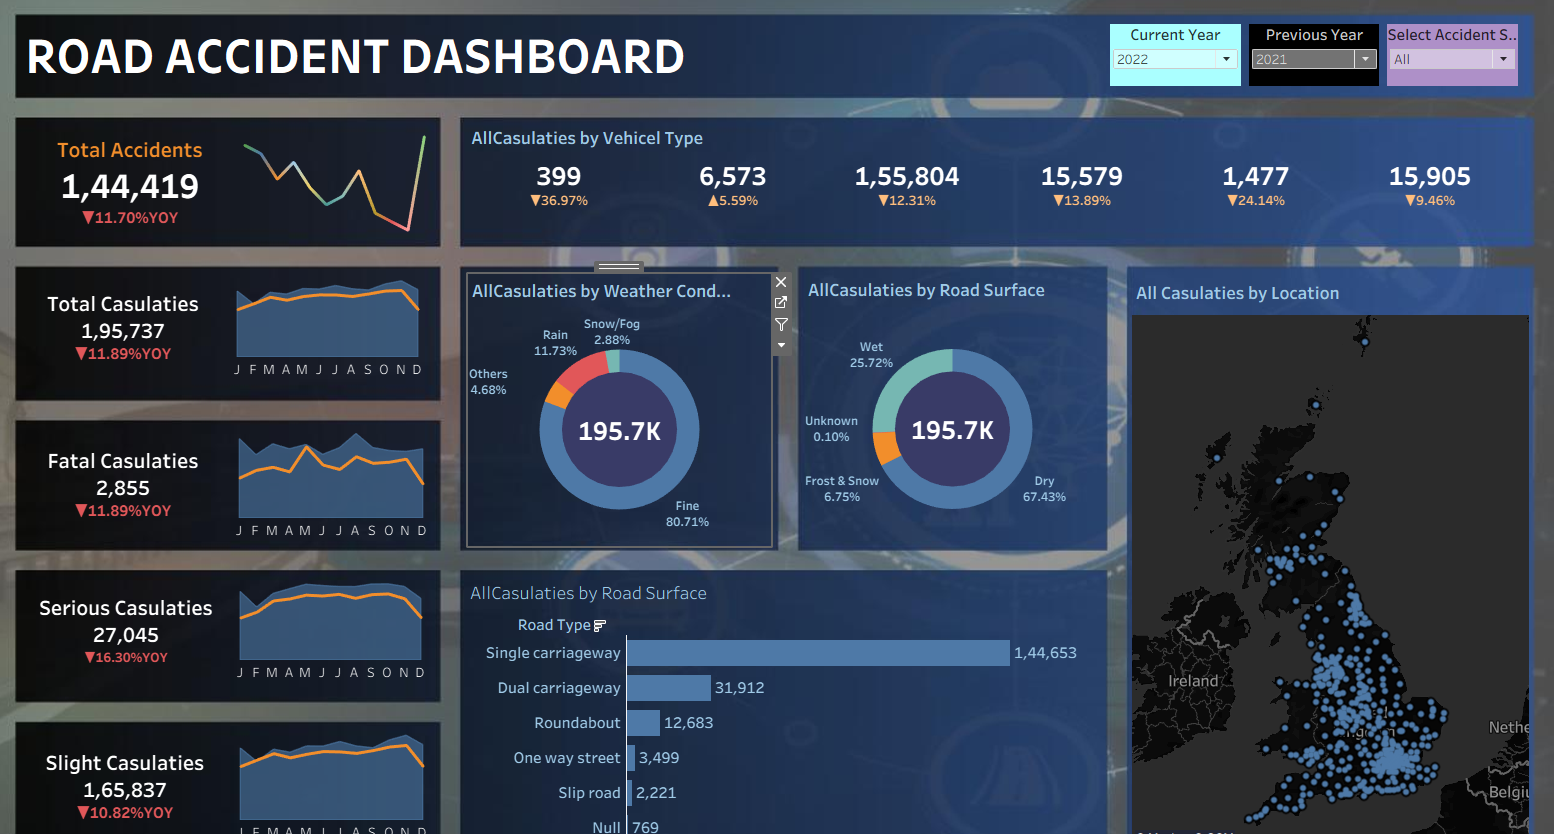

The page's visual inventory and layout, read from the dashboard file:
{"tool":"tableau","page":{"name":"Dashboard 1","canvas":[1600,900],"ordinal":0},"visuals":[{"type":"image","param":"Image/Background.pptx.jpg","box":[8,8,1584,884]},{"type":"text","box":[46,35,676,70]},{"type":"parameter","param":"[Parameters].[Parameter 1]","box":[1130,36,138.7,70]},{"type":"parameter","param":"[Parameters].[Current Year (copy)_1479396139958273]","box":[1268.7,36,138.7,70]},{"type":"parameter","param":"[Parameters].[Parameter 2]","box":[1407.3,36,138.7,70]},{"type":"text","box":[492,138,462,30]},{"type":"worksheet","title":"Total Accidents ","mark":"Text","box":[51,144,205,110]},{"type":"worksheet","title":"Accident Sparkline","mark":"Line","rows":["Calculation_1479396140384258"],"cols":["Accident Date"],"box":[256,144,205,110]},{"type":"worksheet","title":"Vehicle type KPI","mark":"Automatic","box":[492,149,1053,105]},{"type":"worksheet","title":"Total Casulaties","mark":"Text","box":[44,289,205,110]},{"type":"worksheet","title":"Total Casulaties Sparkline","mark":"Automatic","rows":["CY Casualties (copy)_1479396153036806","Calculation_1479396149690373"],"cols":["Accident Date"],"box":[249,289,205,110]},{"type":"worksheet","title":"Road Surface","mark":"Pie","rows":["Calculation_0656687304159234","Calculation_0656687304241156"],"box":[828,289,297,273]},{"type":"worksheet","title":"Weather Condition","mark":"Pie","rows":["Calculation_0656687304159234","Calculation_0656687304241156"],"box":[492,290,303,272]},{"type":"worksheet","title":"Location","mark":"Automatic","rows":["Latitude"],"cols":["Longitude"],"box":[1156,292,397,570]},{"type":"worksheet","title":"Fatal Casulaties","mark":"Text","box":[43,441,208,119]},{"type":"worksheet","title":"Fatal Sparkline","mark":"Automatic","rows":["CY Fatal Casualties (copy)_1479396156862473","Calculation_1479396155559944"],"cols":["Accident Date"],"box":[251,441,208,119]},{"type":"worksheet","title":"Serious Casulaties ","mark":"Text","box":[47,592,205,110]},{"type":"worksheet","title":"Serious Sparkline","mark":"Automatic","rows":["CY Serious  Casualties  (copy)_1080273804345346","CY Fatal Casualties (copy)_1080273803010049"],"cols":["Accident Date"],"box":[252,592,205,110]},{"type":"worksheet","title":"Road Type","mark":"Automatic","rows":["Road_Type"],"cols":["Calculation_1479396149690373"],"box":[490,592,634,269]},{"type":"worksheet","title":"Slight Casulaties","mark":"Text","box":[45,743,207,119]},{"type":"worksheet","title":"Slight Sparkline","mark":"Automatic","rows":["CY Slight Casualties  (copy)_1080273806716933","CY Fatal Casualties (copy)_1080273806123012"],"cols":["Accident Date"],"box":[252,743,207,119]}]}

Visuals, with their boxes on the page's 1600x900 design canvas (x1, y1, x2, y2). These are canvas units, not pixel positions in the 1554x834 screenshot, which may show the page scaled, cropped or inside an application window:
image: [x1=8, y1=8, x2=1592, y2=892]
text: [x1=46, y1=35, x2=722, y2=105]
parameter: [x1=1130, y1=36, x2=1269, y2=106]
parameter: [x1=1269, y1=36, x2=1407, y2=106]
parameter: [x1=1407, y1=36, x2=1546, y2=106]
text: [x1=492, y1=138, x2=954, y2=168]
"Total Accidents " worksheet (Text marks): [x1=51, y1=144, x2=256, y2=254]
"Accident Sparkline" worksheet (Line marks): [x1=256, y1=144, x2=461, y2=254]
"Vehicle type KPI" worksheet: [x1=492, y1=149, x2=1545, y2=254]
"Total Casulaties" worksheet (Text marks): [x1=44, y1=289, x2=249, y2=399]
"Total Casulaties Sparkline" worksheet: [x1=249, y1=289, x2=454, y2=399]
"Road Surface" worksheet (Pie marks): [x1=828, y1=289, x2=1125, y2=562]
"Weather Condition" worksheet (Pie marks): [x1=492, y1=290, x2=795, y2=562]
"Location" worksheet: [x1=1156, y1=292, x2=1553, y2=862]
"Fatal Casulaties" worksheet (Text marks): [x1=43, y1=441, x2=251, y2=560]
"Fatal Sparkline" worksheet: [x1=251, y1=441, x2=459, y2=560]
"Serious Casulaties " worksheet (Text marks): [x1=47, y1=592, x2=252, y2=702]
"Serious Sparkline" worksheet: [x1=252, y1=592, x2=457, y2=702]
"Road Type" worksheet: [x1=490, y1=592, x2=1124, y2=861]
"Slight Casulaties" worksheet (Text marks): [x1=45, y1=743, x2=252, y2=862]
"Slight Sparkline" worksheet: [x1=252, y1=743, x2=459, y2=862]
